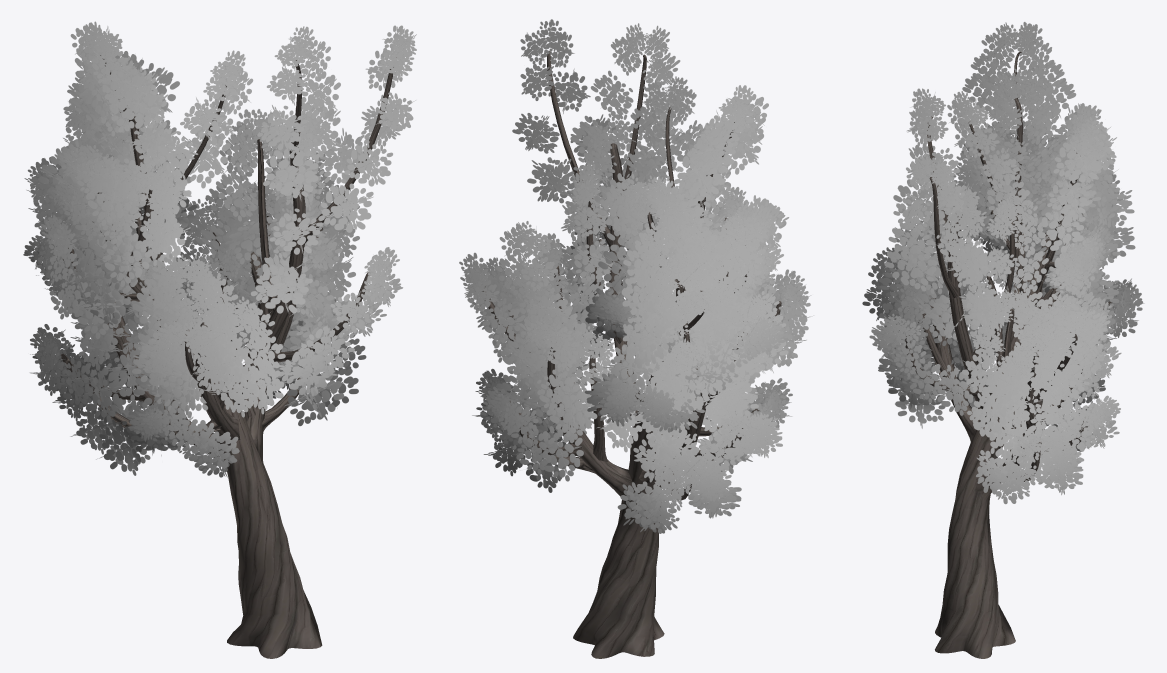
Rendered from twisted-2.glb.
3 renders of one model, left to right at view 1: azimuth 30°, elevation 25°; view 2: azimuth 150°, elevation 25°; view 3: azimuth 270°, elevation 25°, orthographic. The views are drawn at different scales.
Parts seen in each view (by area): view 1: tree_039; view 2: tree_039; view 3: tree_039.
Part boxes in pixels (x1,y1,x2,y2): tree_039: (23, 21, 416, 658); tree_039: (459, 19, 813, 658); tree_039: (862, 22, 1144, 658).
Size of the model in its own units: 10.56 by 18.95 by 9.2.
Materials: 2 (2 with a texture image).
